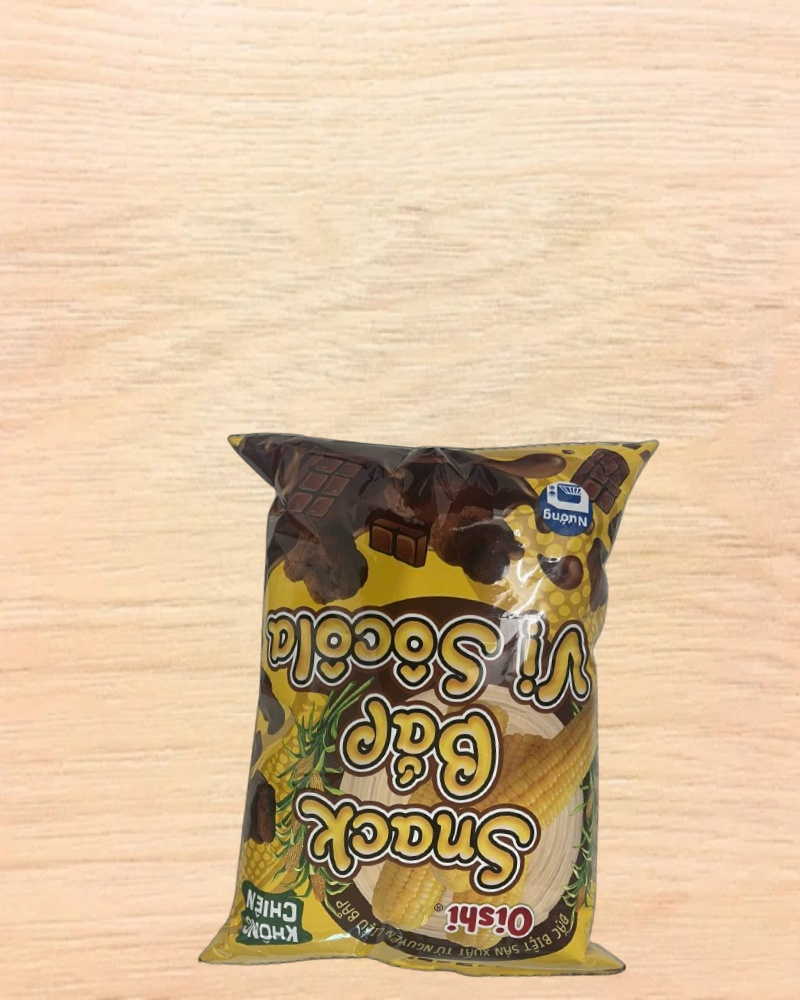Snack socola: (184, 407, 671, 999)
